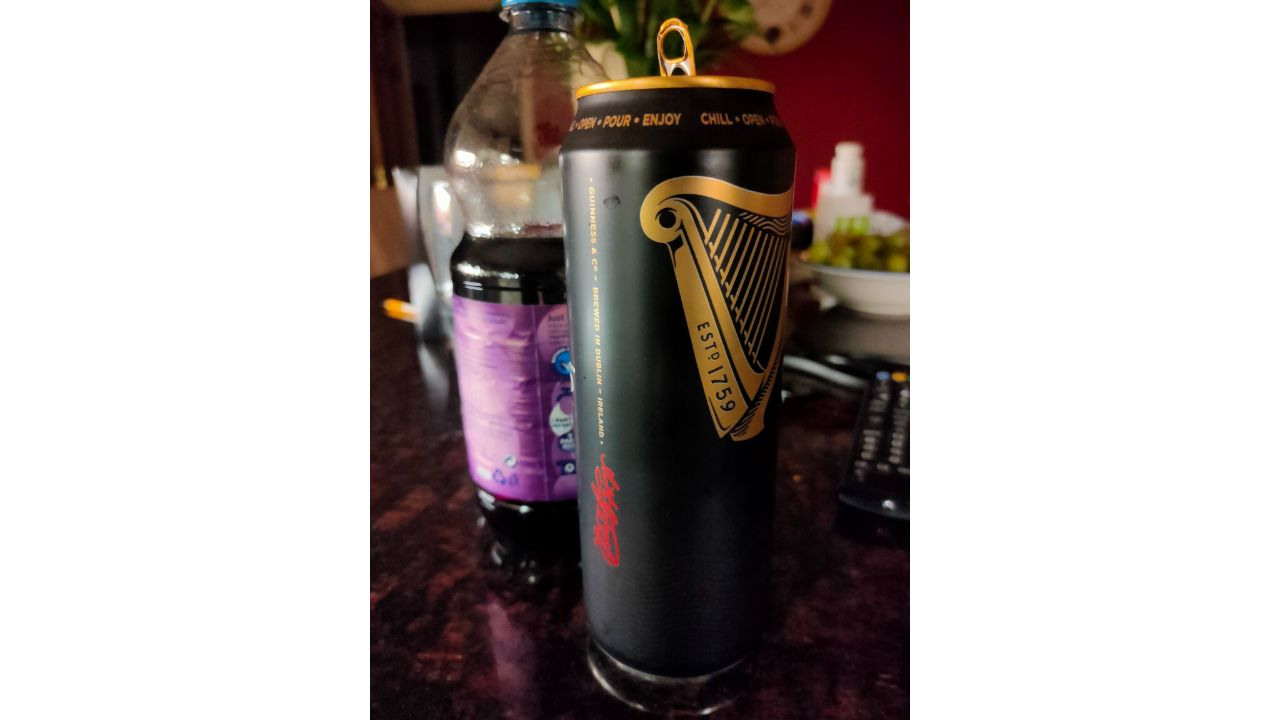Can: (562, 18, 805, 687)
